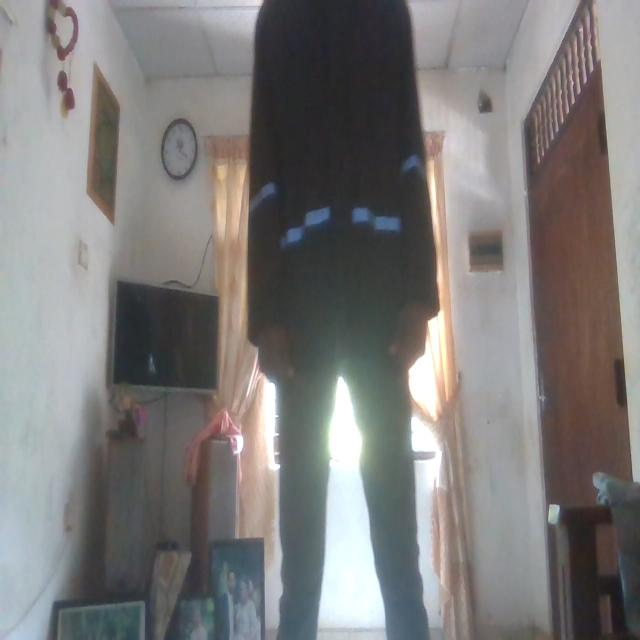Jacket_Wearer: (247, 0, 437, 346)
Person: (242, 1, 444, 640)
